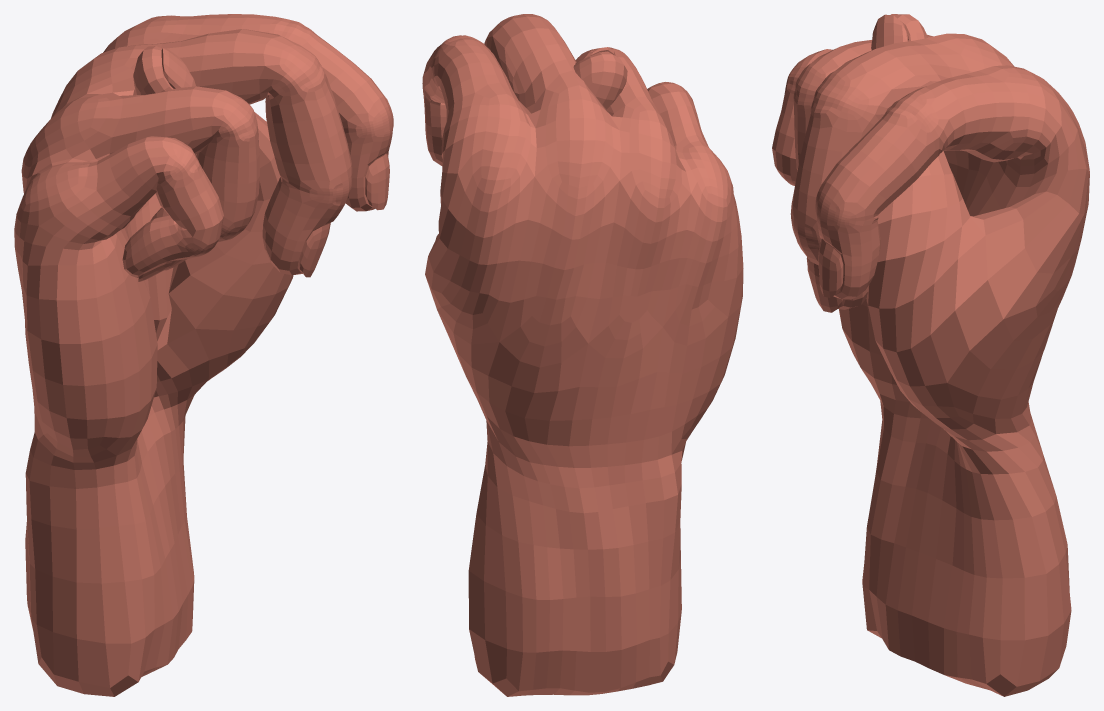
File: noon.glb
3 views of the same model, side by side, from view 1: azimuth 30°, elevation 25°; view 2: azimuth 150°, elevation 25°; view 3: azimuth 270°, elevation 25° (orthographic). The views are drawn at different scales.
Parts seen in each view (by area): view 1: ZBrushPolyMesh3D; view 2: ZBrushPolyMesh3D; view 3: ZBrushPolyMesh3D.
Boxes of the visible parts, box(x1,y1,x2,y2) form: ZBrushPolyMesh3D: box(14, 14, 393, 696); ZBrushPolyMesh3D: box(422, 14, 743, 696); ZBrushPolyMesh3D: box(772, 14, 1089, 696).
Bounding box in the file's own units: 2.19 × 3.87 × 1.7.
